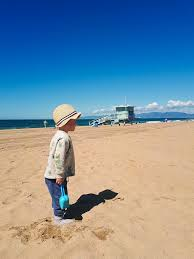child: (36, 104, 83, 226)
